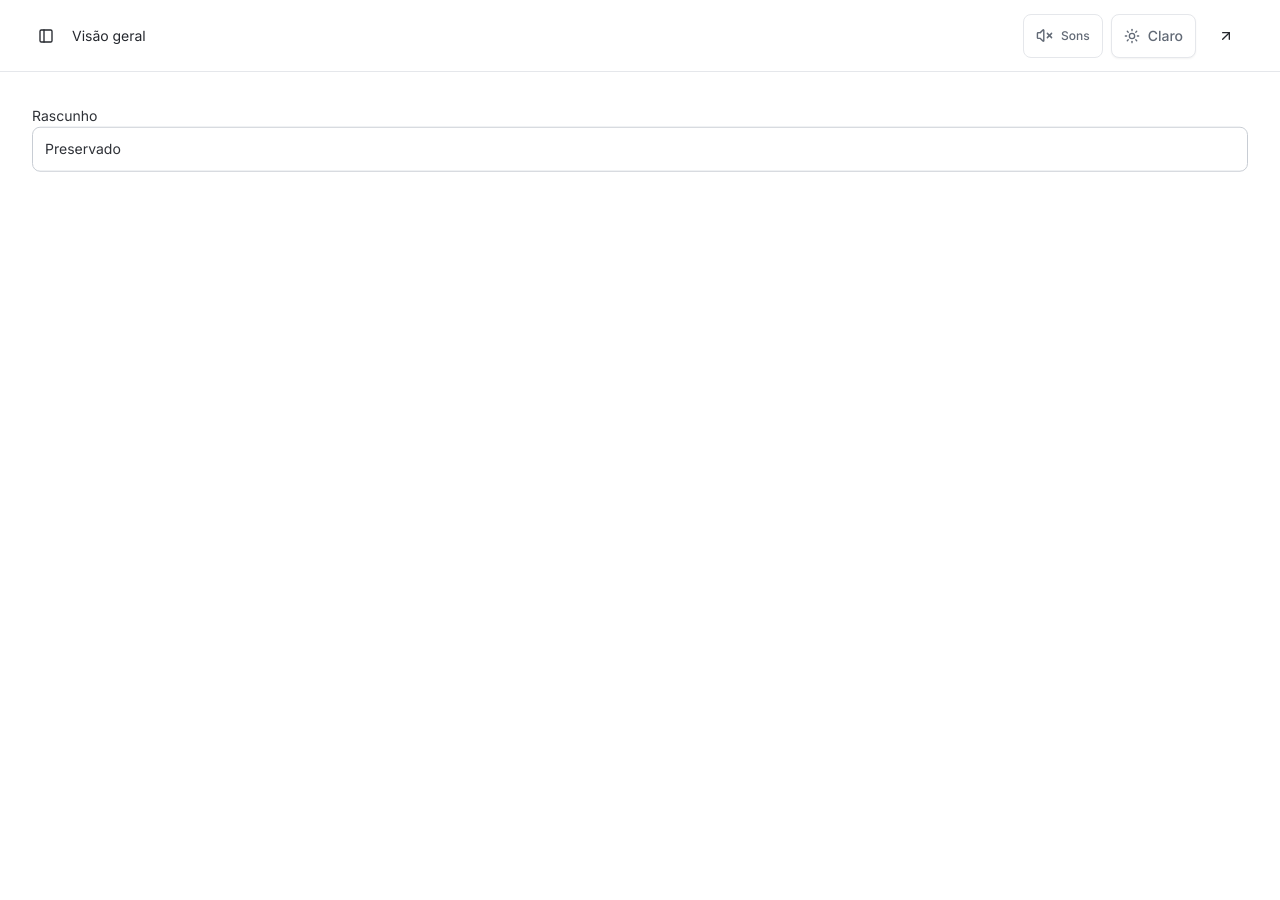
Scenario: oferece sheet no celular, fecha com Escape e devolve foco
Click the button named "Abrir menu". click: point(46, 36)
box: [32,22,60,50]
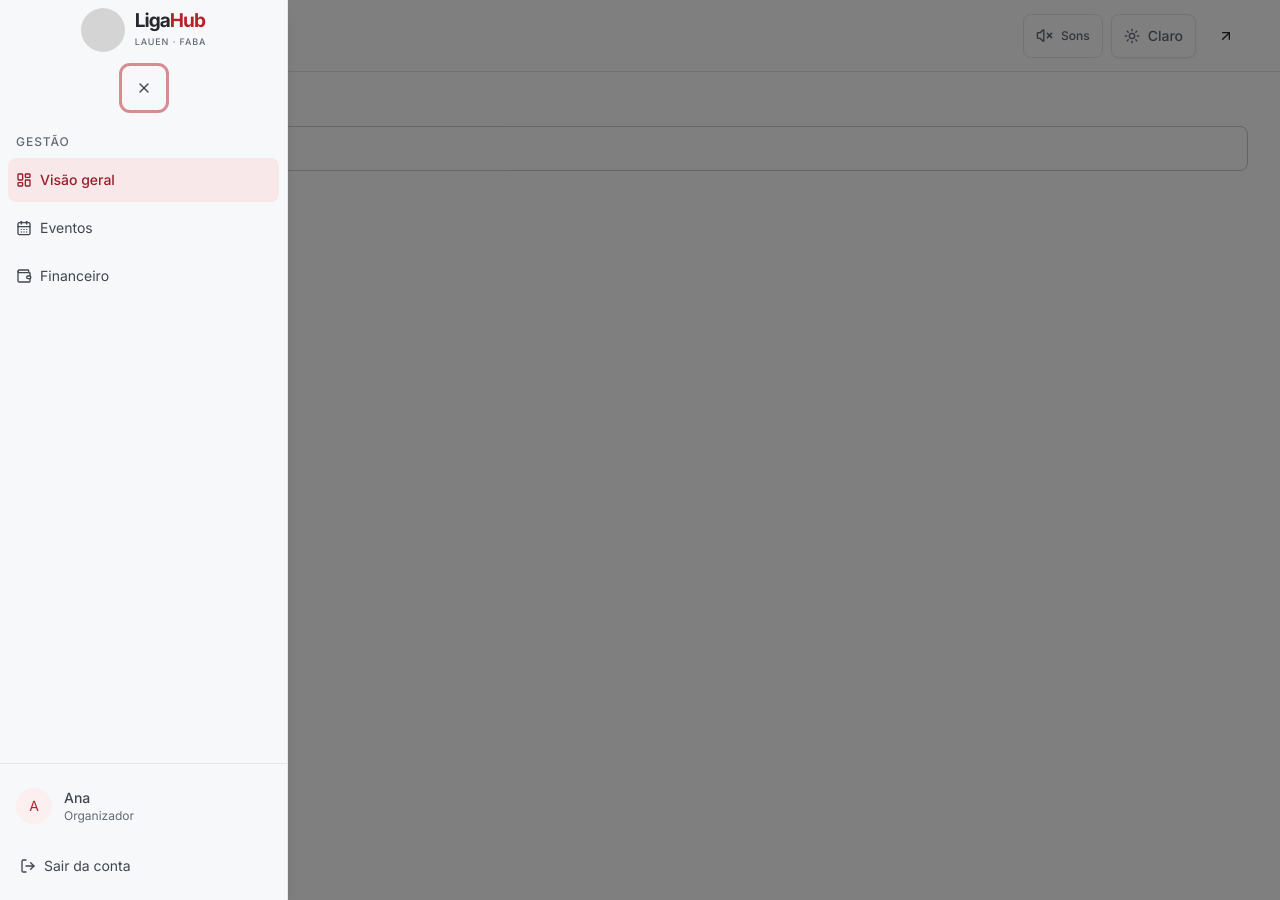
expect the dialog named "Menu de gestão" is shown: met, box [0,0,288,899]
Press Escape
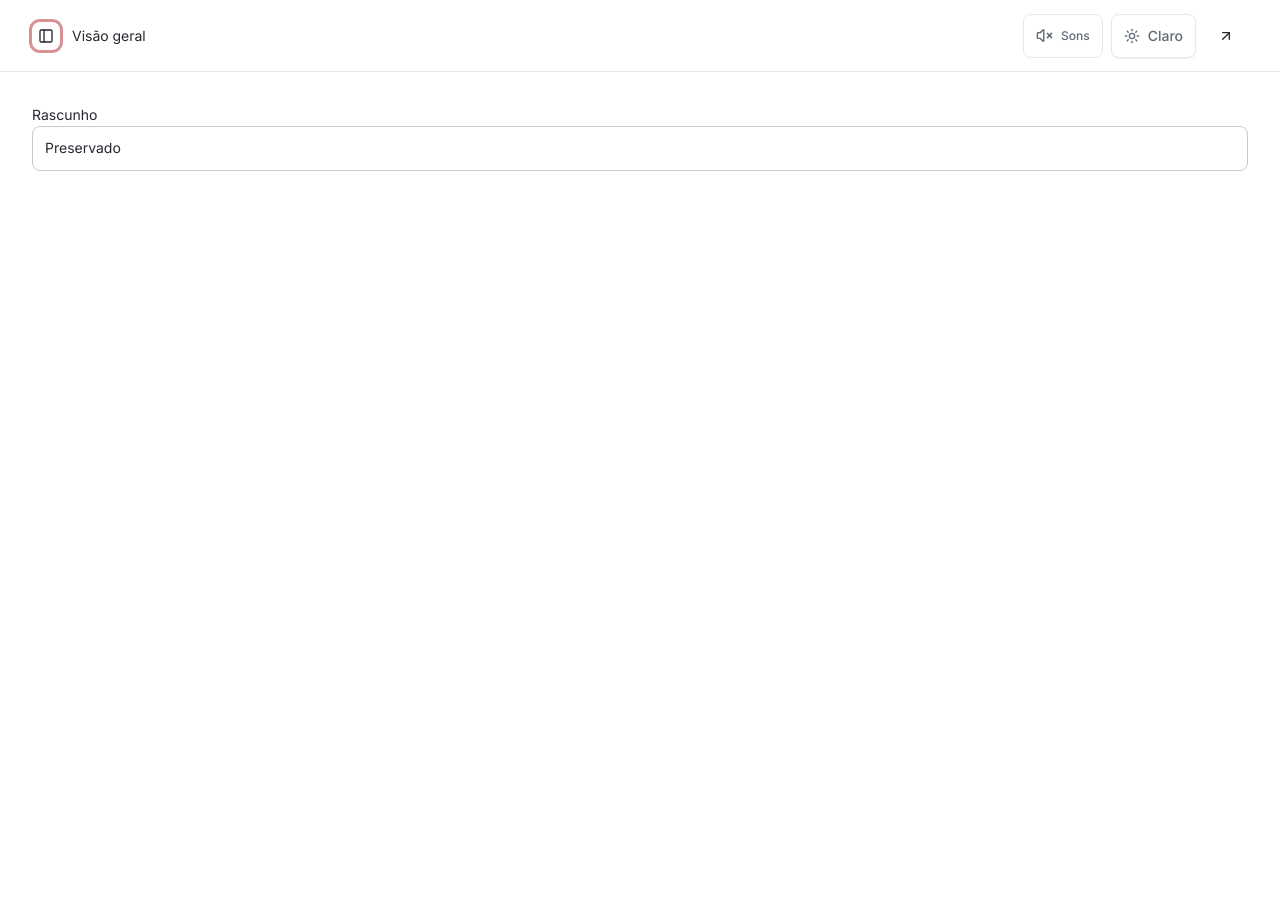
expect the dialog is gone: met
